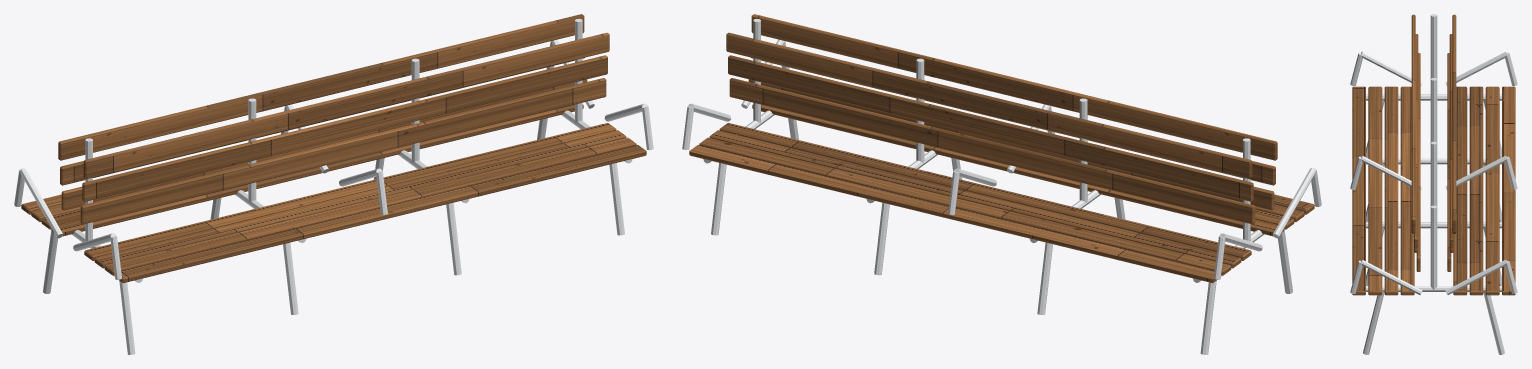
File: bench_double.glb
3 renders of one model, left to right at view 1: azimuth 30°, elevation 25°; view 2: azimuth 150°, elevation 25°; view 3: azimuth 270°, elevation 25°, orthographic. The views are drawn at different scales.
Parts seen in each view (by area): view 1: bench_double_wood, bench_double_chrome; view 2: bench_double_wood, bench_double_chrome; view 3: bench_double_wood, bench_double_chrome.
Boxes of the visible parts, bbox=[...] form: bench_double_wood: bbox=[21, 14, 646, 283]; bench_double_chrome: bbox=[14, 18, 653, 354]; bench_double_wood: bbox=[689, 14, 1314, 283]; bench_double_chrome: bbox=[682, 18, 1321, 354]; bench_double_wood: bbox=[1352, 14, 1515, 295]; bench_double_chrome: bbox=[1350, 14, 1517, 354].
Size of the model in its own units: 3.08 by 1 by 1.04.
2 materials, 1 textured.
